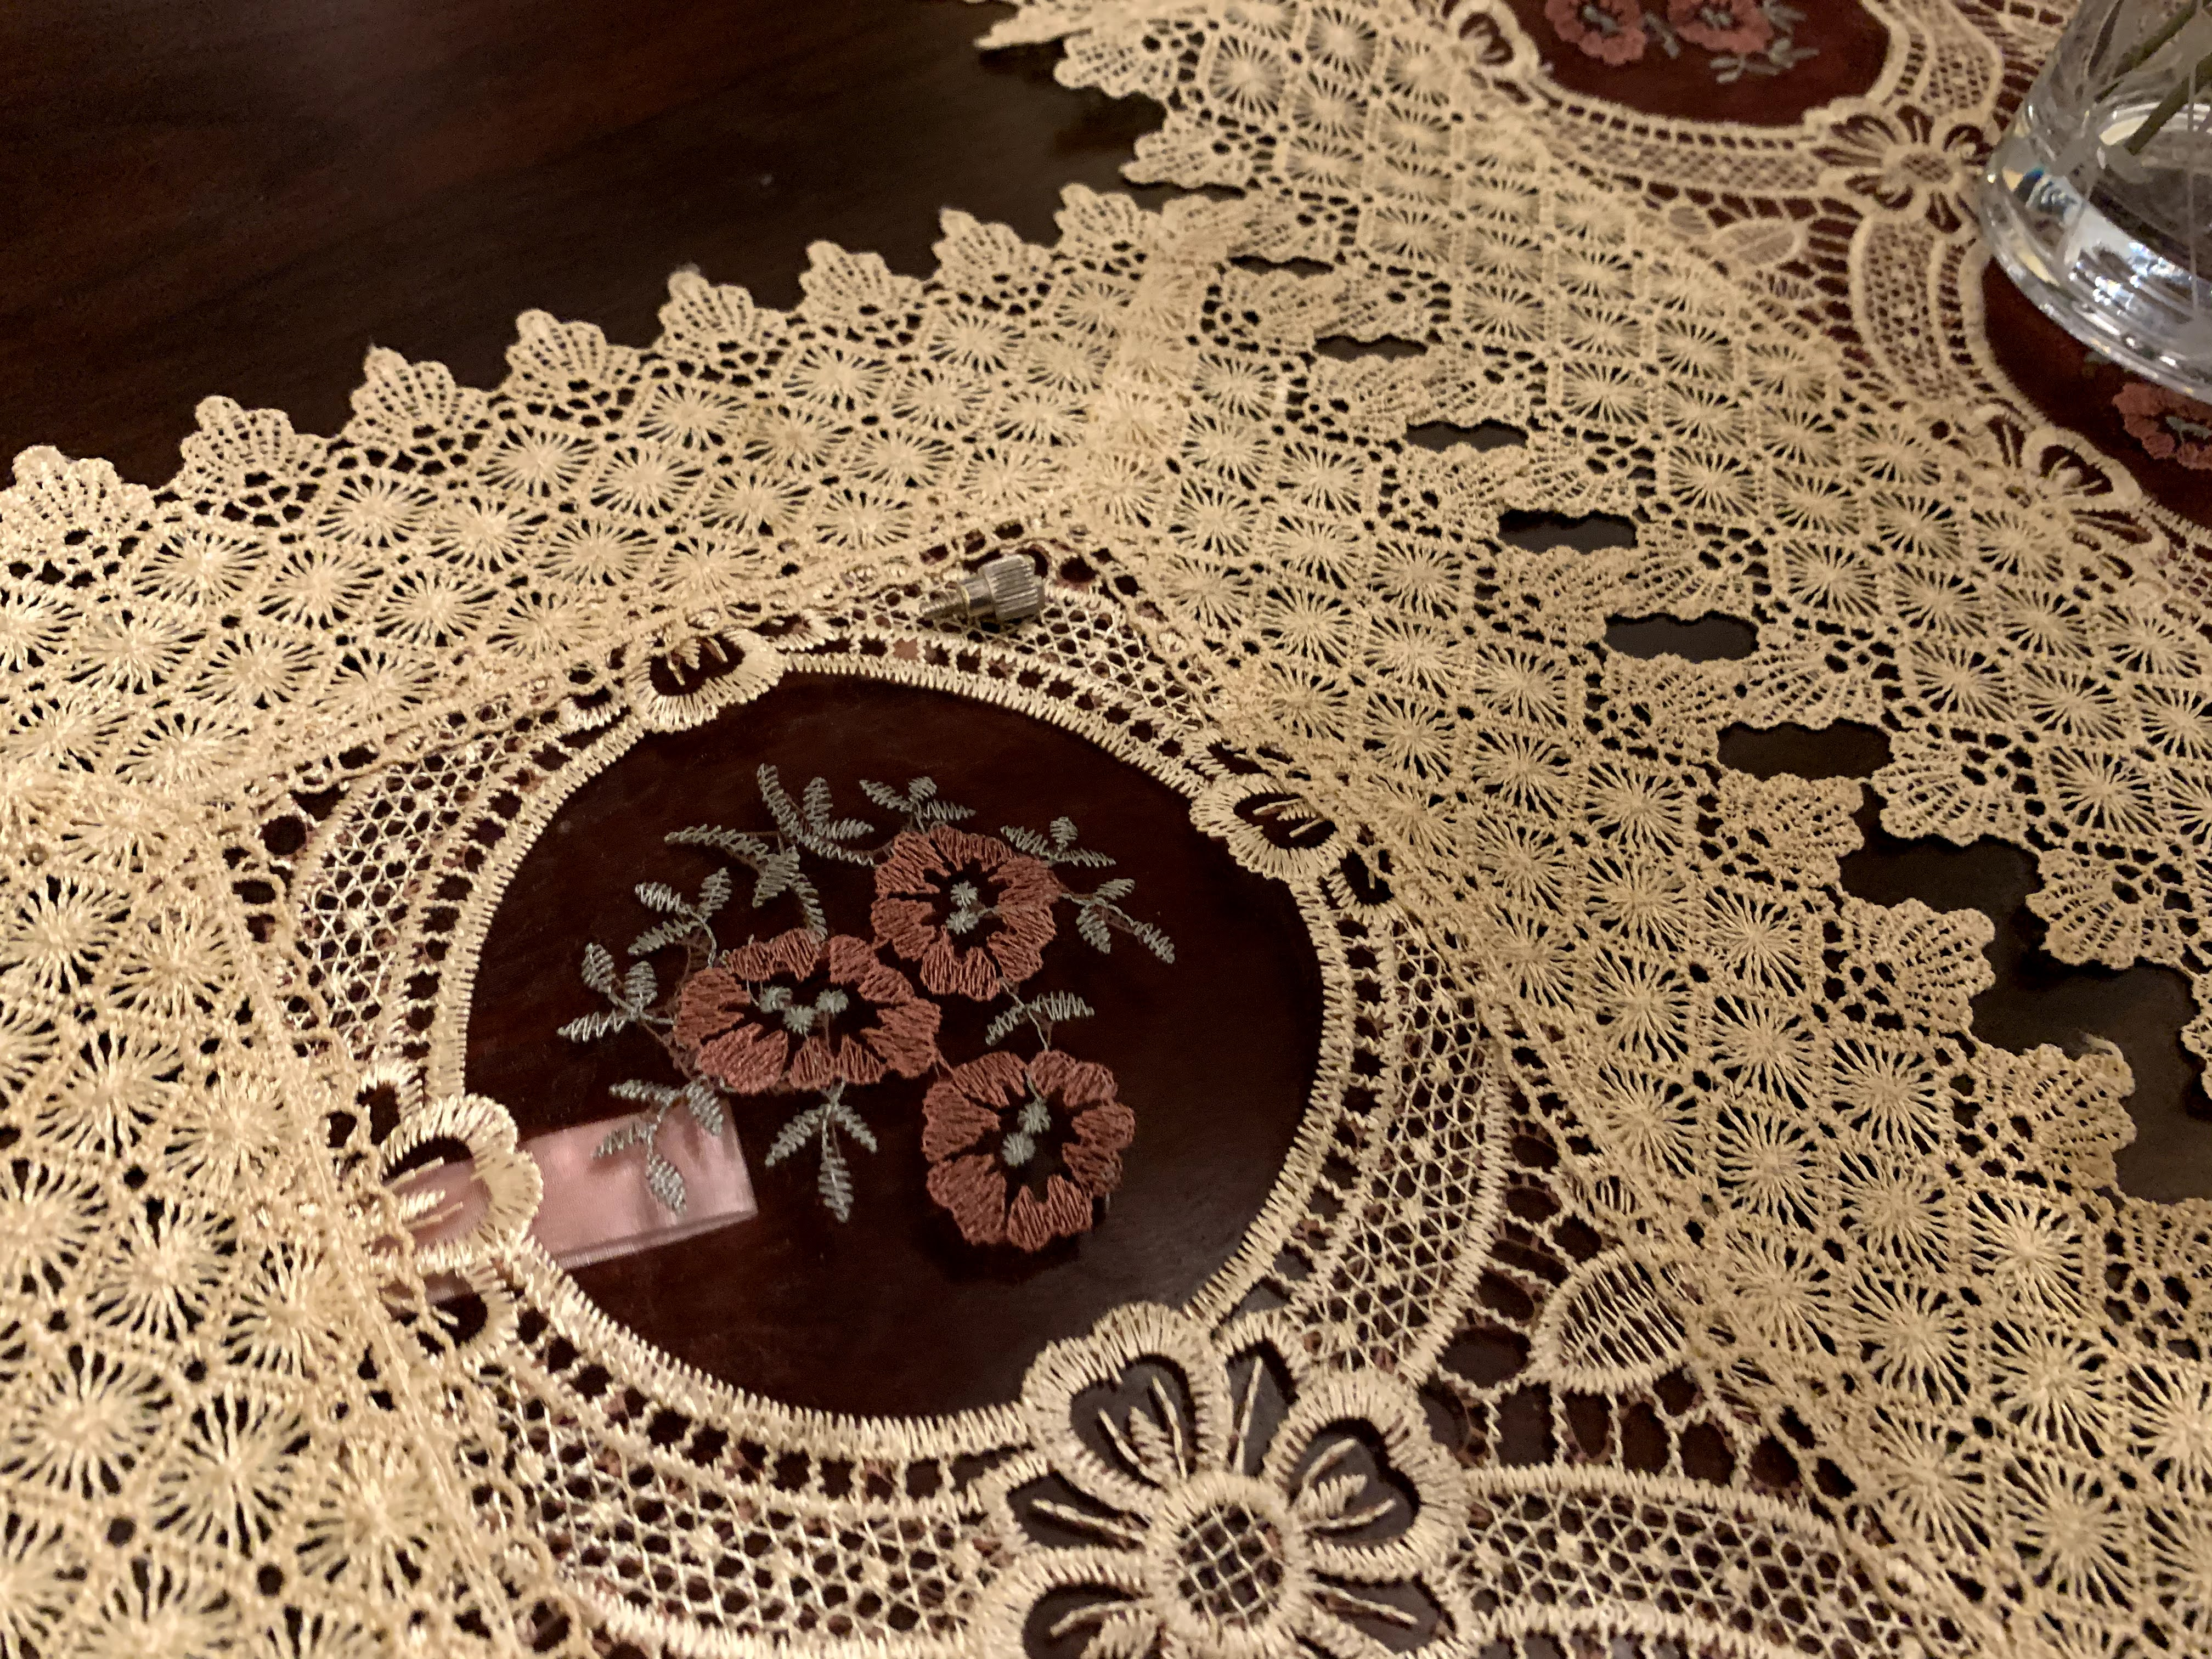Space-debris-small: (909, 537, 1043, 634)
